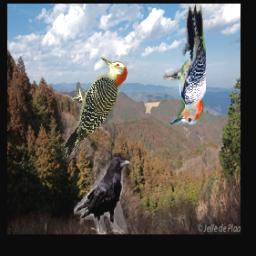Crow: (74, 153, 130, 234)
Woodpecker: (61, 57, 128, 158), (164, 4, 207, 124)
